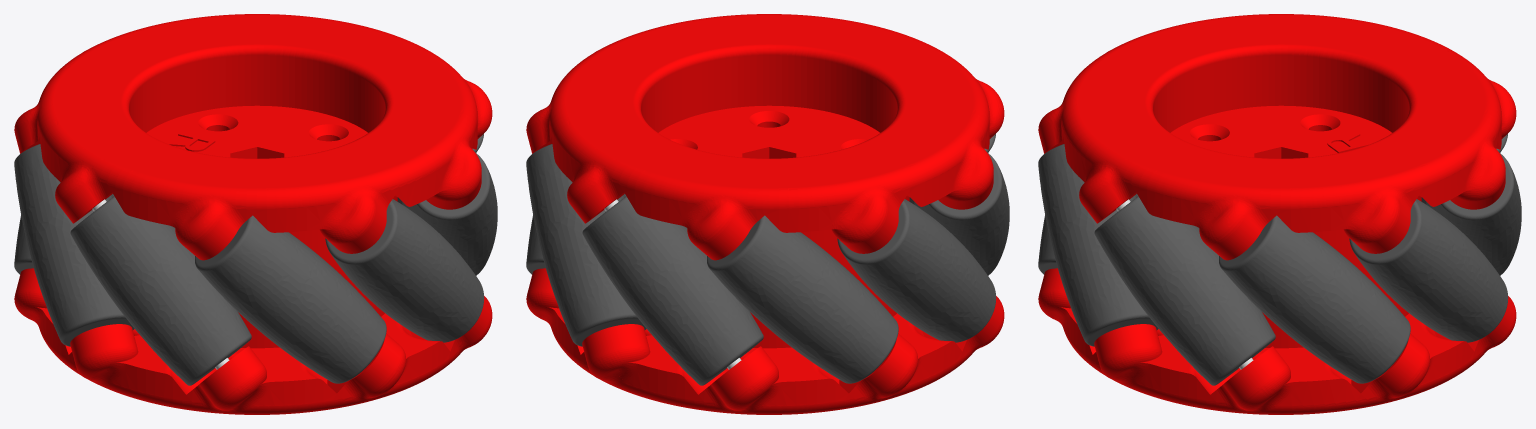
Rendered from mecanum_60mm_R.glb.
3 views of the same model, side by side, from view 1: azimuth 30°, elevation 25°; view 2: azimuth 150°, elevation 25°; view 3: azimuth 270°, elevation 25° (orthographic).
Parts seen in each view (by area): view 1: Node1, Node3, Node2; view 2: Node1, Node3, Node2; view 3: Node1, Node3, Node2.
Part boxes in pixels (<box>): Node1: <box>14,14,492,412</box>; Node3: <box>14,134,497,385</box>; Node2: <box>14,51,492,414</box>; Node1: <box>526,14,1004,412</box>; Node3: <box>526,134,1009,385</box>; Node2: <box>527,77,995,414</box>; Node1: <box>1039,14,1516,407</box>; Node3: <box>1038,134,1521,385</box>; Node2: <box>1038,77,1516,414</box>.
Bounding box in the file's own units: 60.45 × 31 × 60.33.
